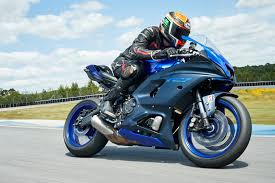motorcycle: (61, 34, 255, 167)
